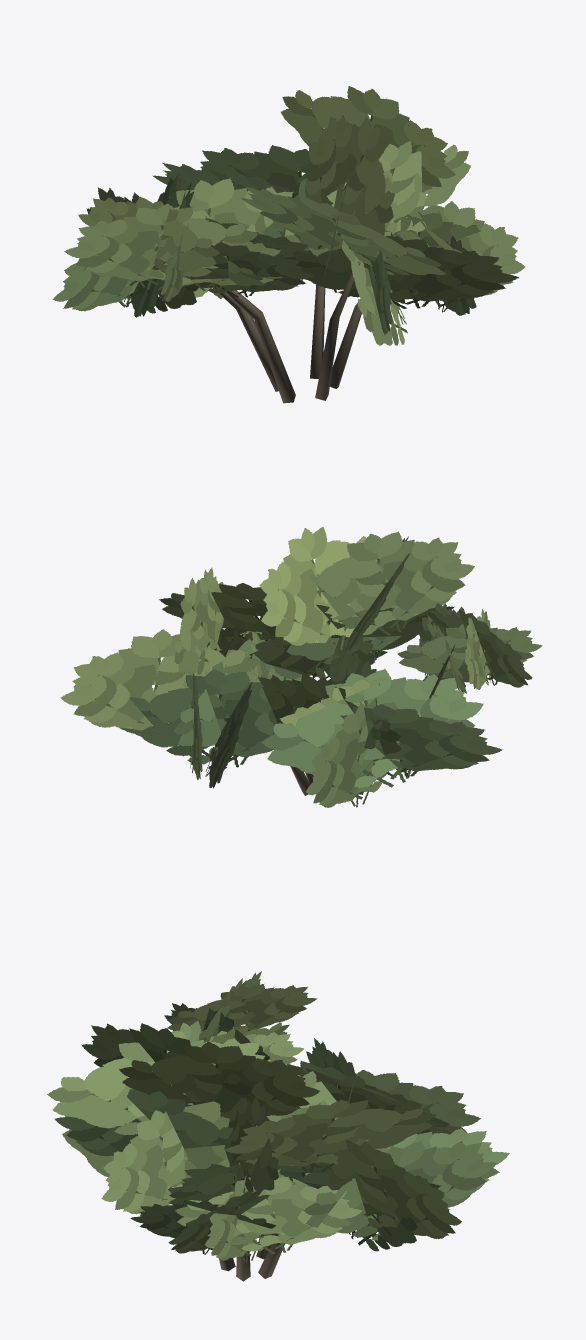
Rendered from bank-shrub-a.glb.
The picture shows the model from 3 angles, top to bottom: view 1: azimuth 30°, elevation 25°; view 2: azimuth 150°, elevation 25°; view 3: azimuth 270°, elevation 25°; orthographic projection. The views are drawn at different scales.
Parts seen in each view (by area): view 1: shrub-leaves, shrub-stems; view 2: shrub-leaves; view 3: shrub-leaves, shrub-stems.
Boxes of the visible parts, x1,y1,x2,y2 form: shrub-leaves: [52, 86, 525, 345]; shrub-stems: [215, 261, 361, 403]; shrub-leaves: [60, 527, 542, 807]; shrub-leaves: [47, 971, 509, 1262]; shrub-stems: [219, 1233, 284, 1281].
Size of the model in its own units: 1.86 by 1.07 by 1.91.
2 materials, 1 textured.
